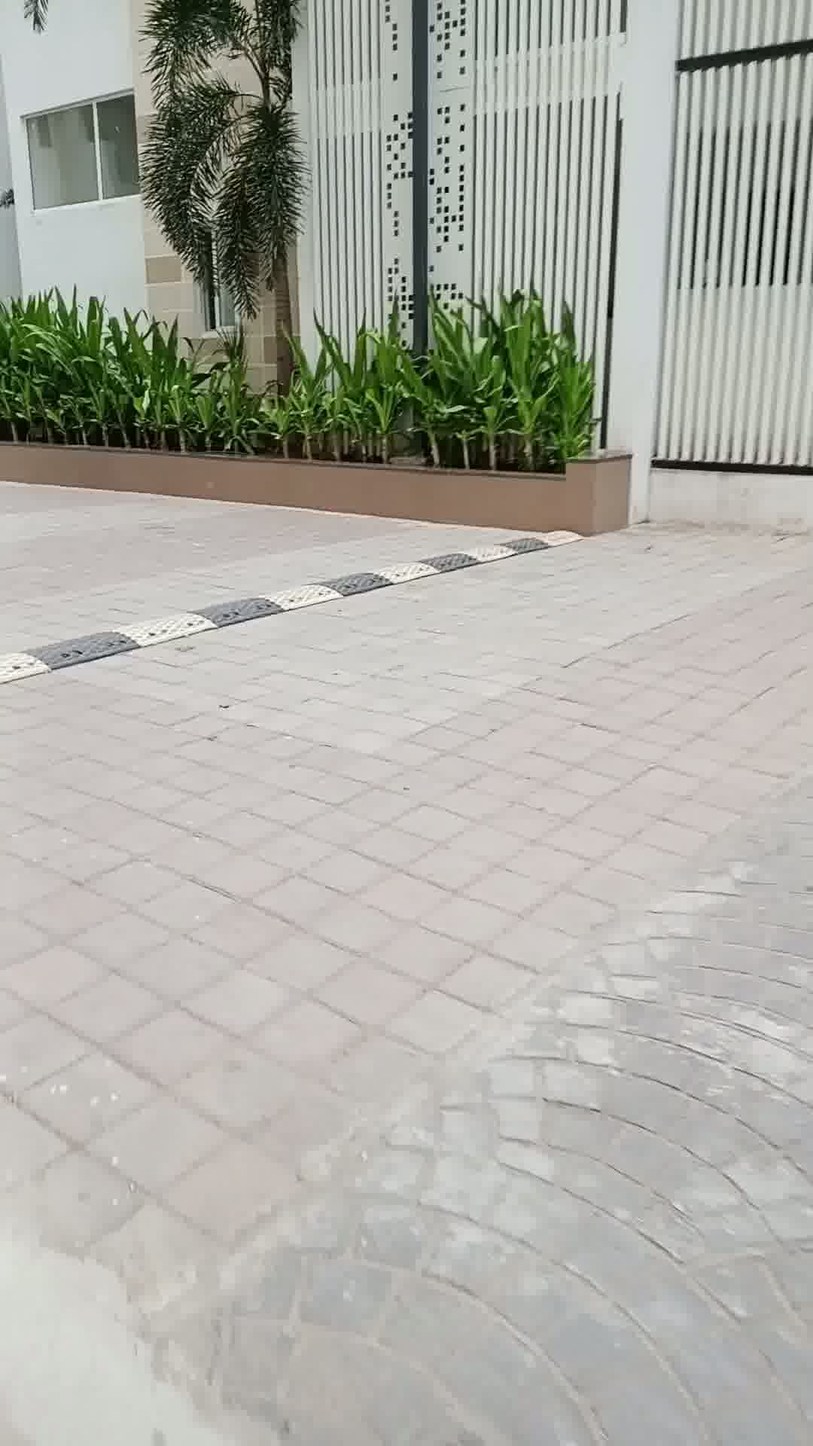tree: (134, 0, 327, 433)
